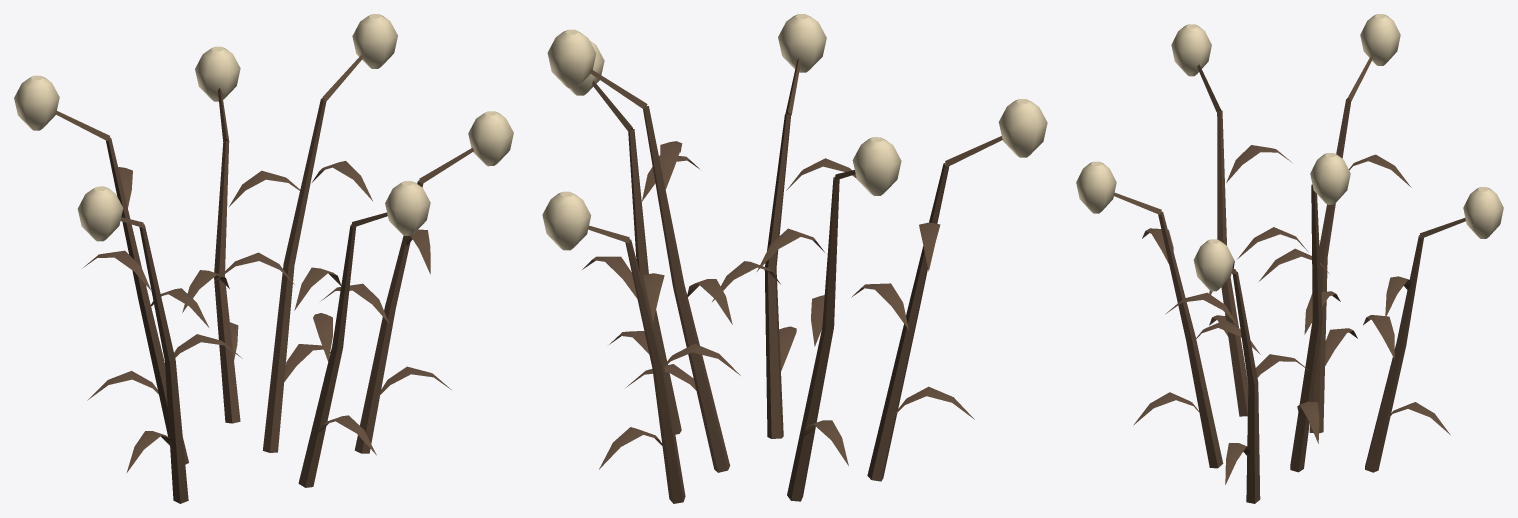
Rendered from crop_flax_withered.glb.
The picture shows the model from 3 angles, left to right: view 1: azimuth 30°, elevation 25°; view 2: azimuth 150°, elevation 25°; view 3: azimuth 270°, elevation 25°; orthographic projection. The views are drawn at different scales.
Parts seen in each view (by area): view 1: flax_leaf_0_0, flax_boll_0; view 2: flax_leaf_0_0, flax_boll_0; view 3: flax_leaf_0_0, flax_boll_0.
Part boxes in pixels (x1,y1,x2,y2): flax_leaf_0_0: (55,54,474,503); flax_boll_0: (14,14,513,241); flax_leaf_0_0: (582,58,1002,503); flax_boll_0: (542,14,1047,250); flax_leaf_0_0: (1114,54,1465,503); flax_boll_0: (1076,14,1503,291).
Size of the model in its own units: 0.5629 by 0.4836 by 0.5054.
